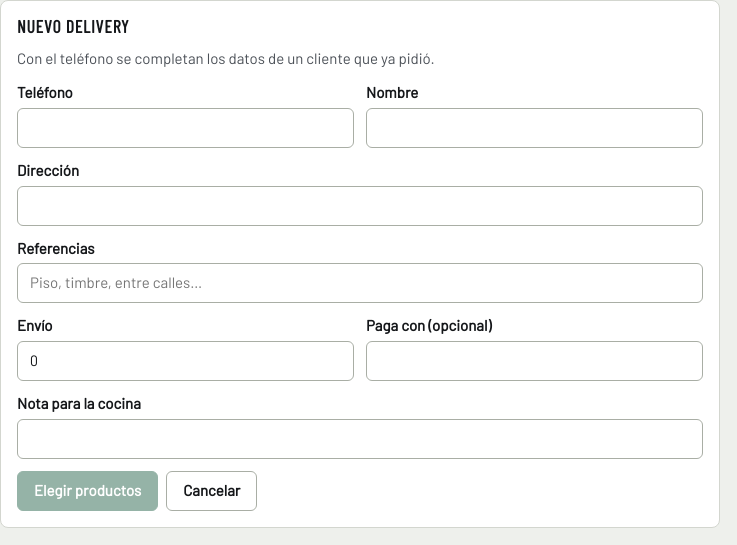
Test: sin nombre o dirección no se puede seguir
Step 1. Type "Pedro" into the field labelled "Nombre" → (534, 128), box [366,108,703,148]
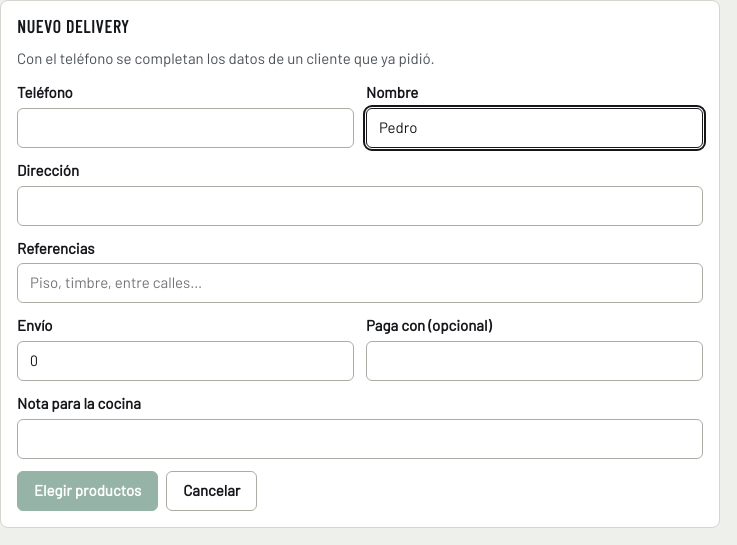
Check: the button "Elegir productos" is disabled, box [17,471,158,511]
Step 2. Type "Calle 1" into the field labelled "Dirección" → (360, 206), box [17,186,703,226]
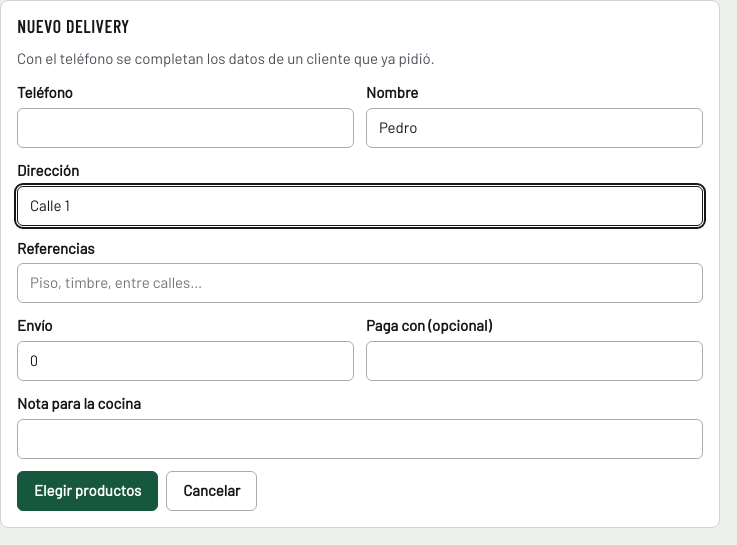
Check: the button "Elegir productos" is enabled, box [17,471,158,511]
